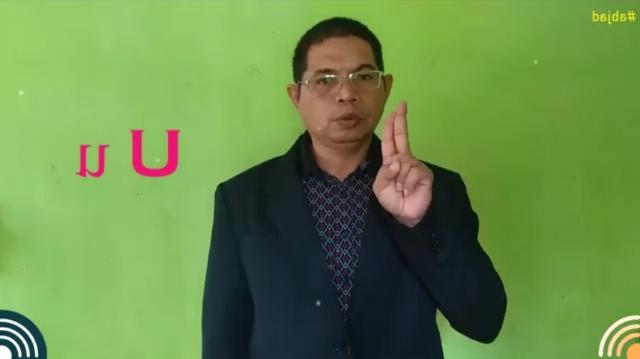U: (369, 96, 436, 222)
